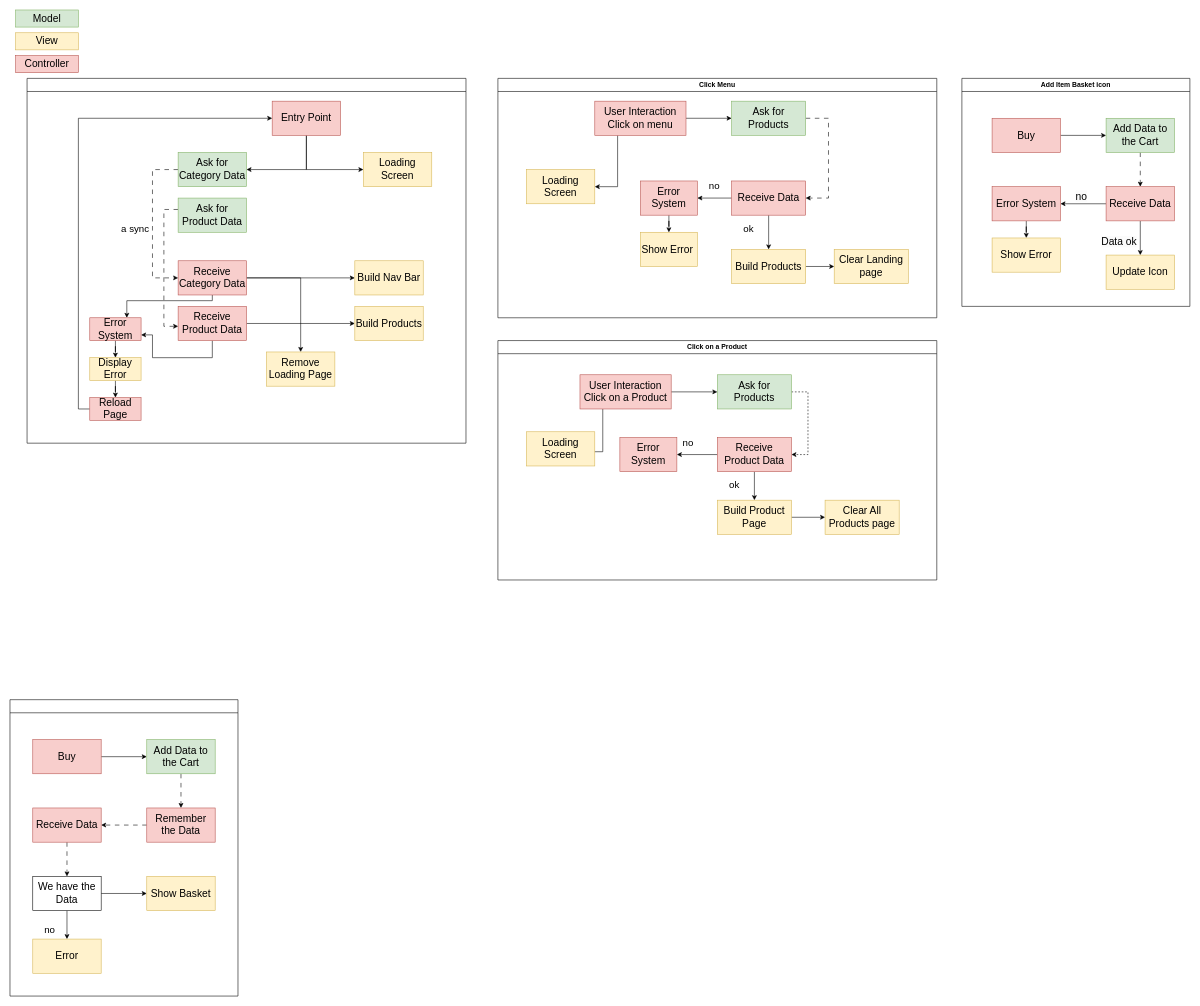
Some shapes in this 1200 by 1006 pixel diagram are drawn without their labels. Here are the shapes that lost their labels. From the top down, the centre of each, then its label:
At [246,260]: "Landing Page".
At [123,847]: "Add Item Show Basket".
